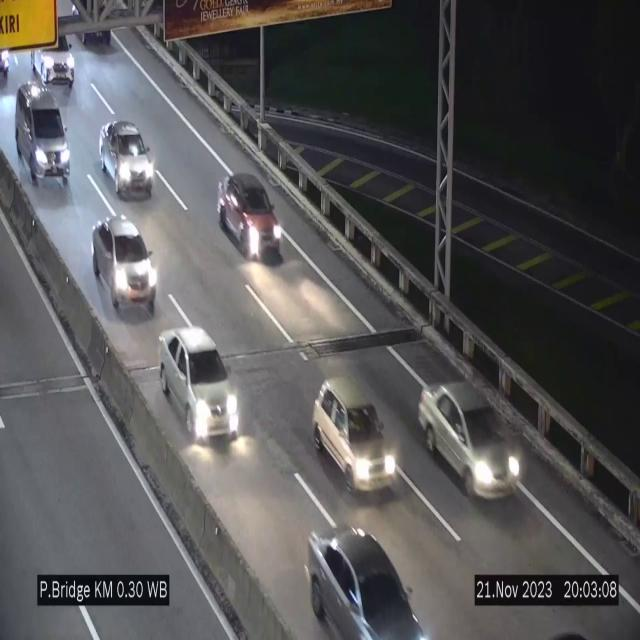Car: (304, 522, 426, 640), (420, 375, 522, 505), (310, 369, 406, 497), (158, 327, 240, 440), (8, 82, 72, 190), (91, 213, 160, 311), (217, 175, 284, 262), (99, 120, 154, 198), (30, 25, 78, 85)
